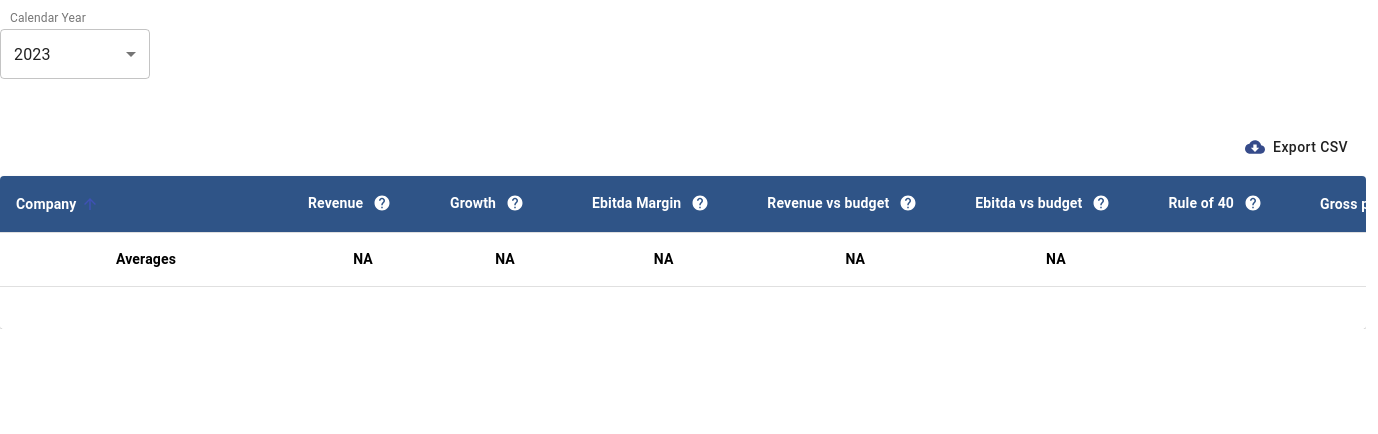
Test: <ByYearReport /> › change calendar year select
The width and height of the screenshot is (1378, 434).
Click the button "2023": (32, 54) [14,44,51,64]
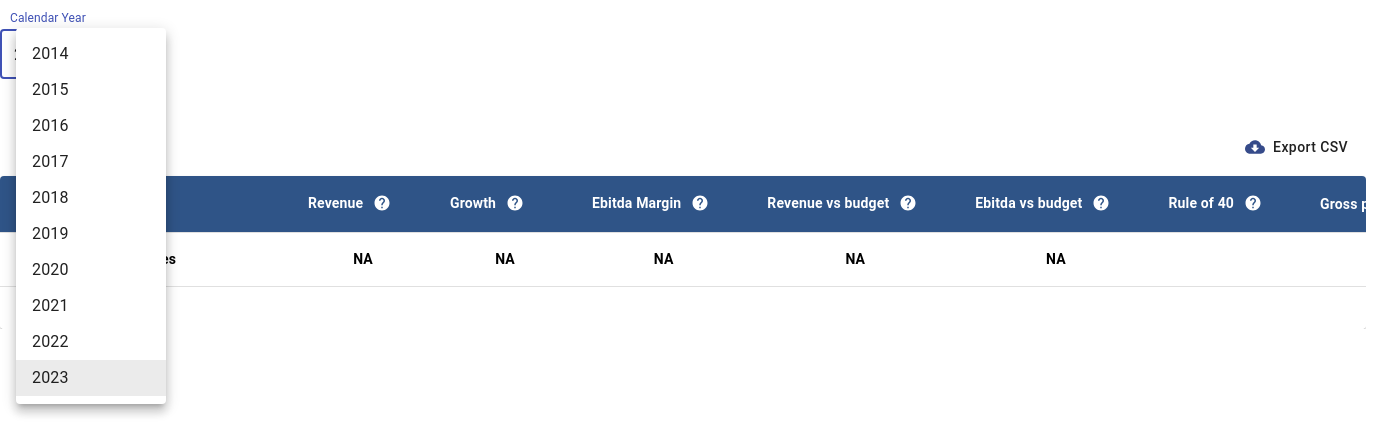
Click the option "2021": (50, 306) [32,296,69,315]
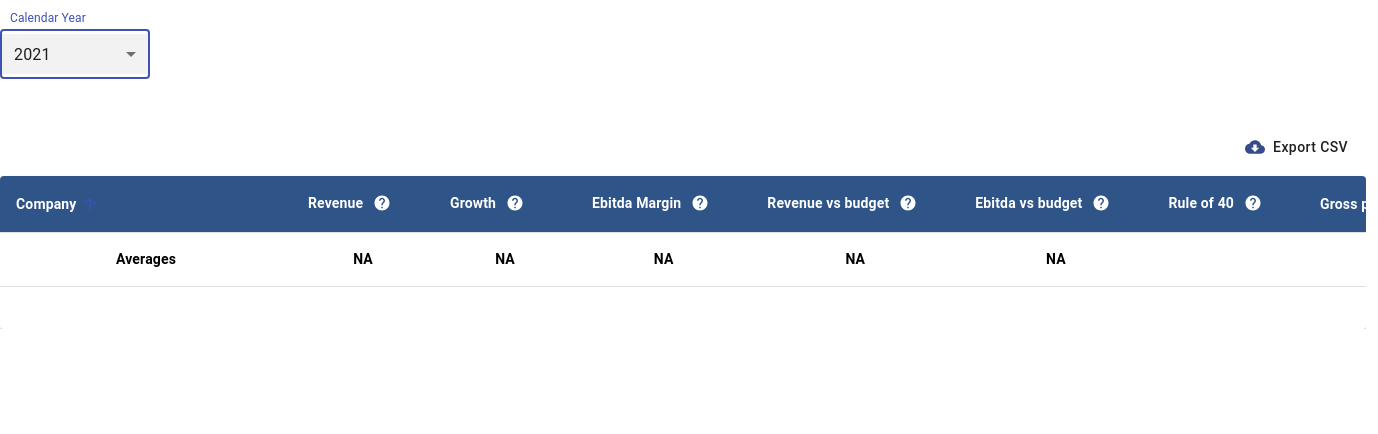
expect the button "2021" is shown: met, box [0,34,150,74]
